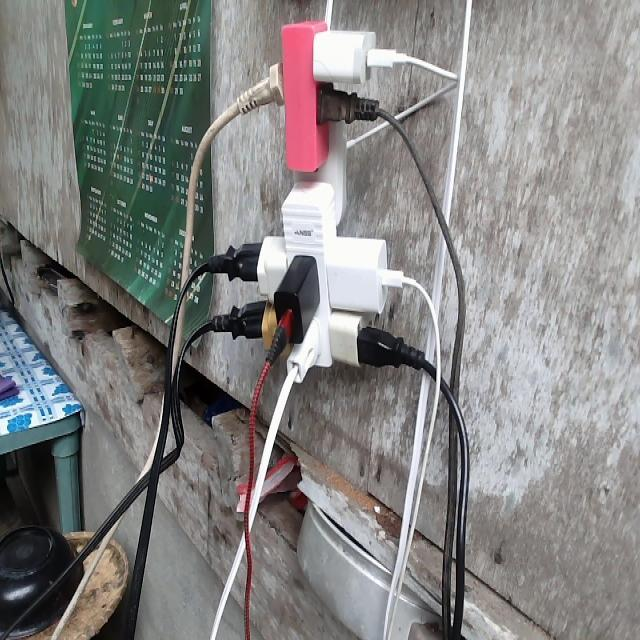-: (199, 11, 457, 404)
